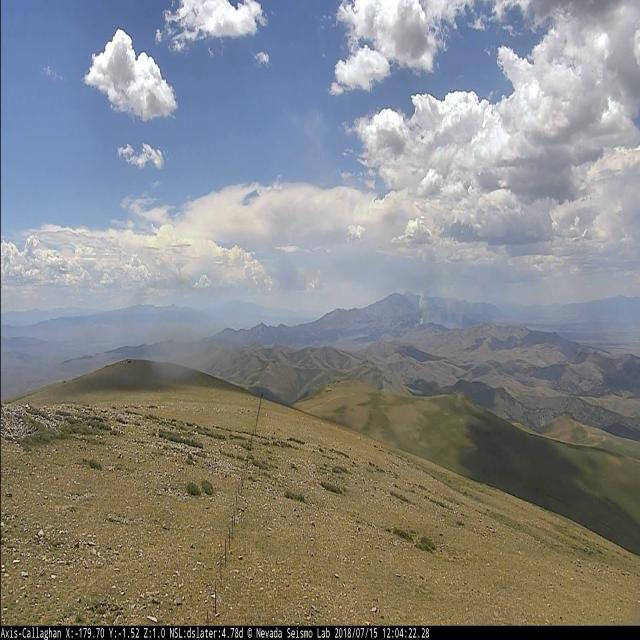smoke: (418, 291, 465, 330)
